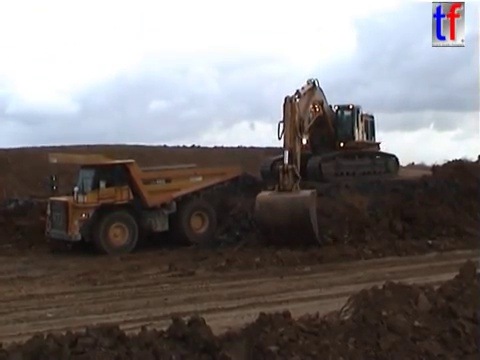excavator: (252, 76, 402, 249)
truck: (38, 149, 243, 256), (312, 136, 381, 162)
